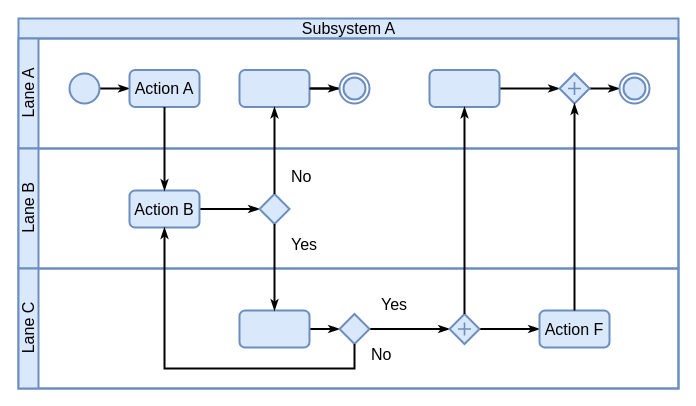
Some shapes in this 696 by 406 pixel diagram are drawn without their labels. The shapes that lost their labels are listed below. From the top down, each one's centre as x and y in pixels, then its label:
At (x=274, y=88): "Action C".
At (x=464, y=88): "Action E".
At (x=274, y=328): "Action D".
